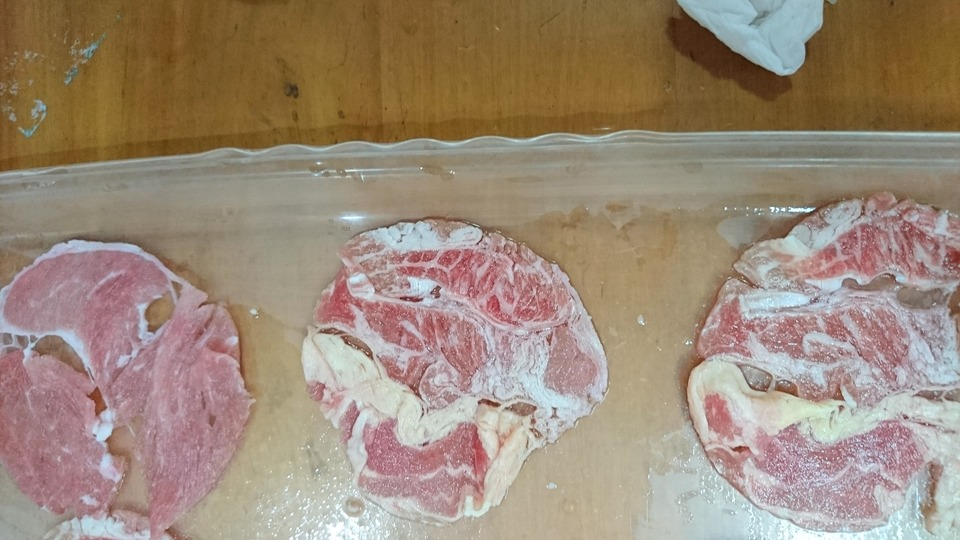restructured meat: (297, 213, 616, 523), (678, 180, 960, 521), (1, 251, 265, 540)
